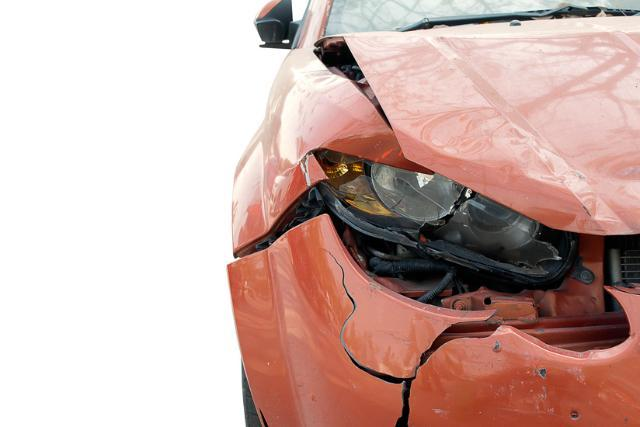Bonnet: (370, 45, 640, 219)
Bumper: (241, 232, 639, 427)
Light: (336, 170, 527, 270)
